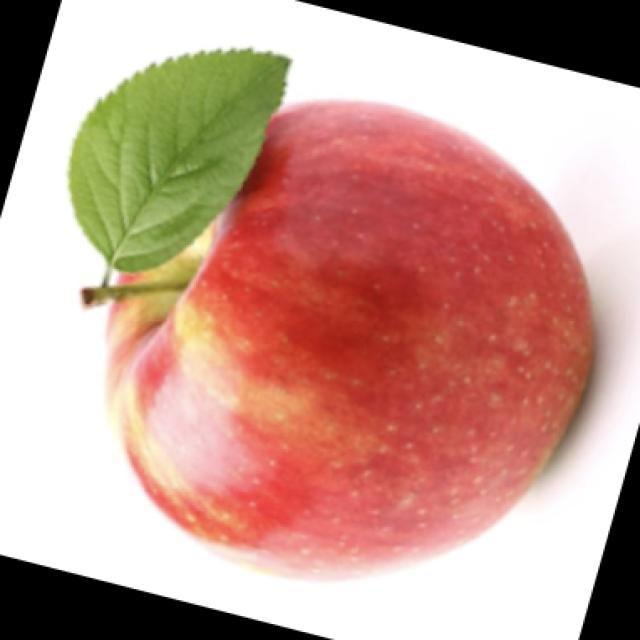Apple: (102, 96, 596, 582)
